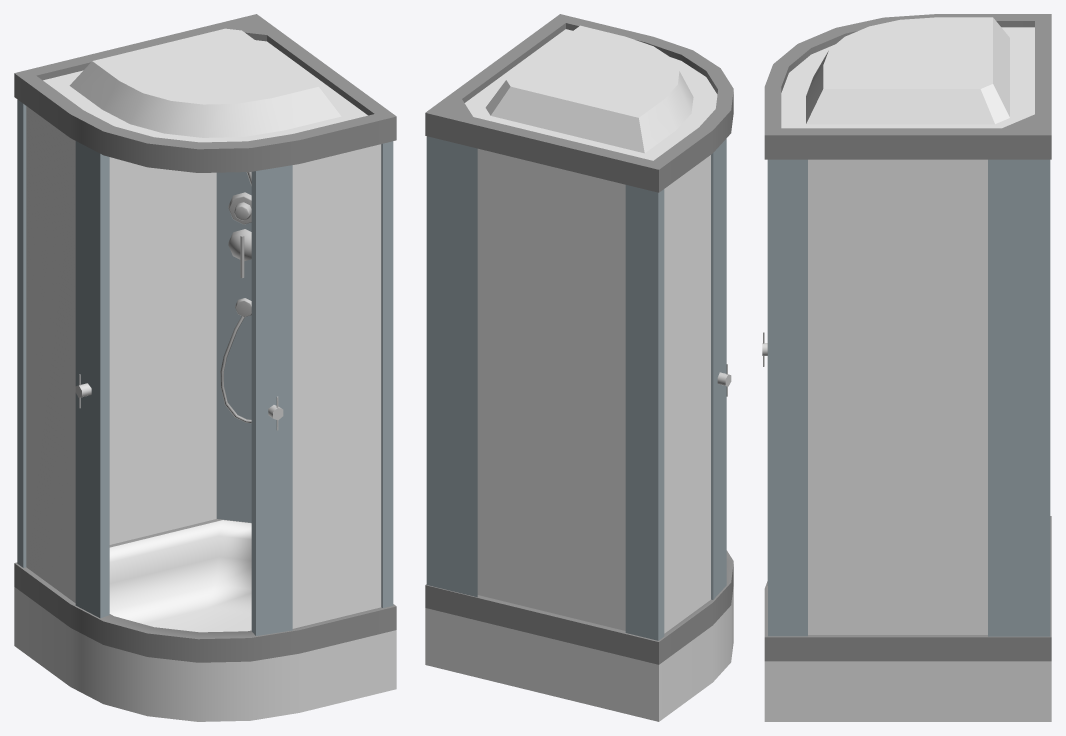
Rendered from bathroom_028.fbx.
3 views of the same model, side by side, from view 1: azimuth 30°, elevation 25°; view 2: azimuth 150°, elevation 25°; view 3: azimuth 270°, elevation 25° (orthographic). The views are drawn at different scales.
Parts seen in each view (by area): view 1: bathroom_028; view 2: bathroom_028; view 3: bathroom_028.
Part boxes in pixels (<box>): bathroom_028: <box>14,14,396,721</box>; bathroom_028: <box>425,14,733,721</box>; bathroom_028: <box>762,14,1051,721</box>.
Size of the model in its own units: 112 by 111 by 257.
